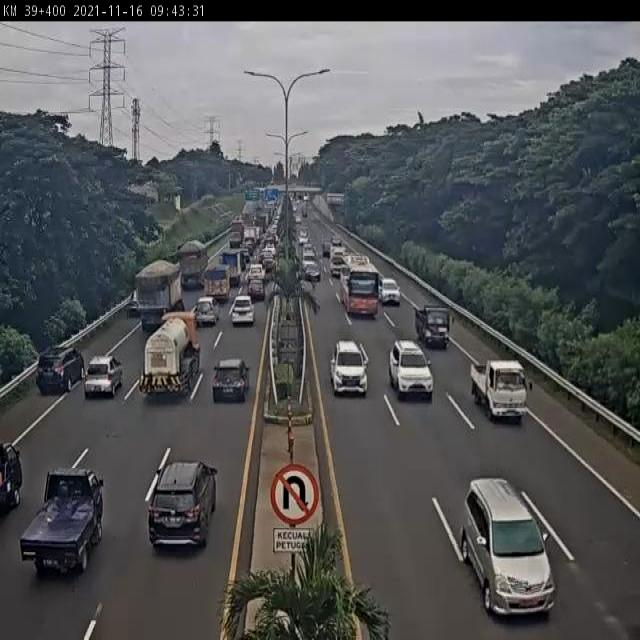Bus: (339, 253, 379, 319)
Car: (461, 479, 555, 617), (20, 467, 105, 575), (147, 458, 219, 552), (470, 358, 528, 424), (390, 340, 434, 401), (36, 346, 86, 394), (329, 339, 368, 398), (211, 357, 251, 403), (83, 354, 124, 398), (0, 442, 23, 516), (414, 304, 450, 349), (230, 294, 255, 326), (193, 298, 219, 328), (378, 277, 400, 305), (248, 271, 266, 302), (126, 290, 140, 318), (302, 248, 316, 266), (322, 240, 332, 258)
Truck: (138, 314, 201, 394), (136, 260, 182, 332), (203, 264, 231, 300)
